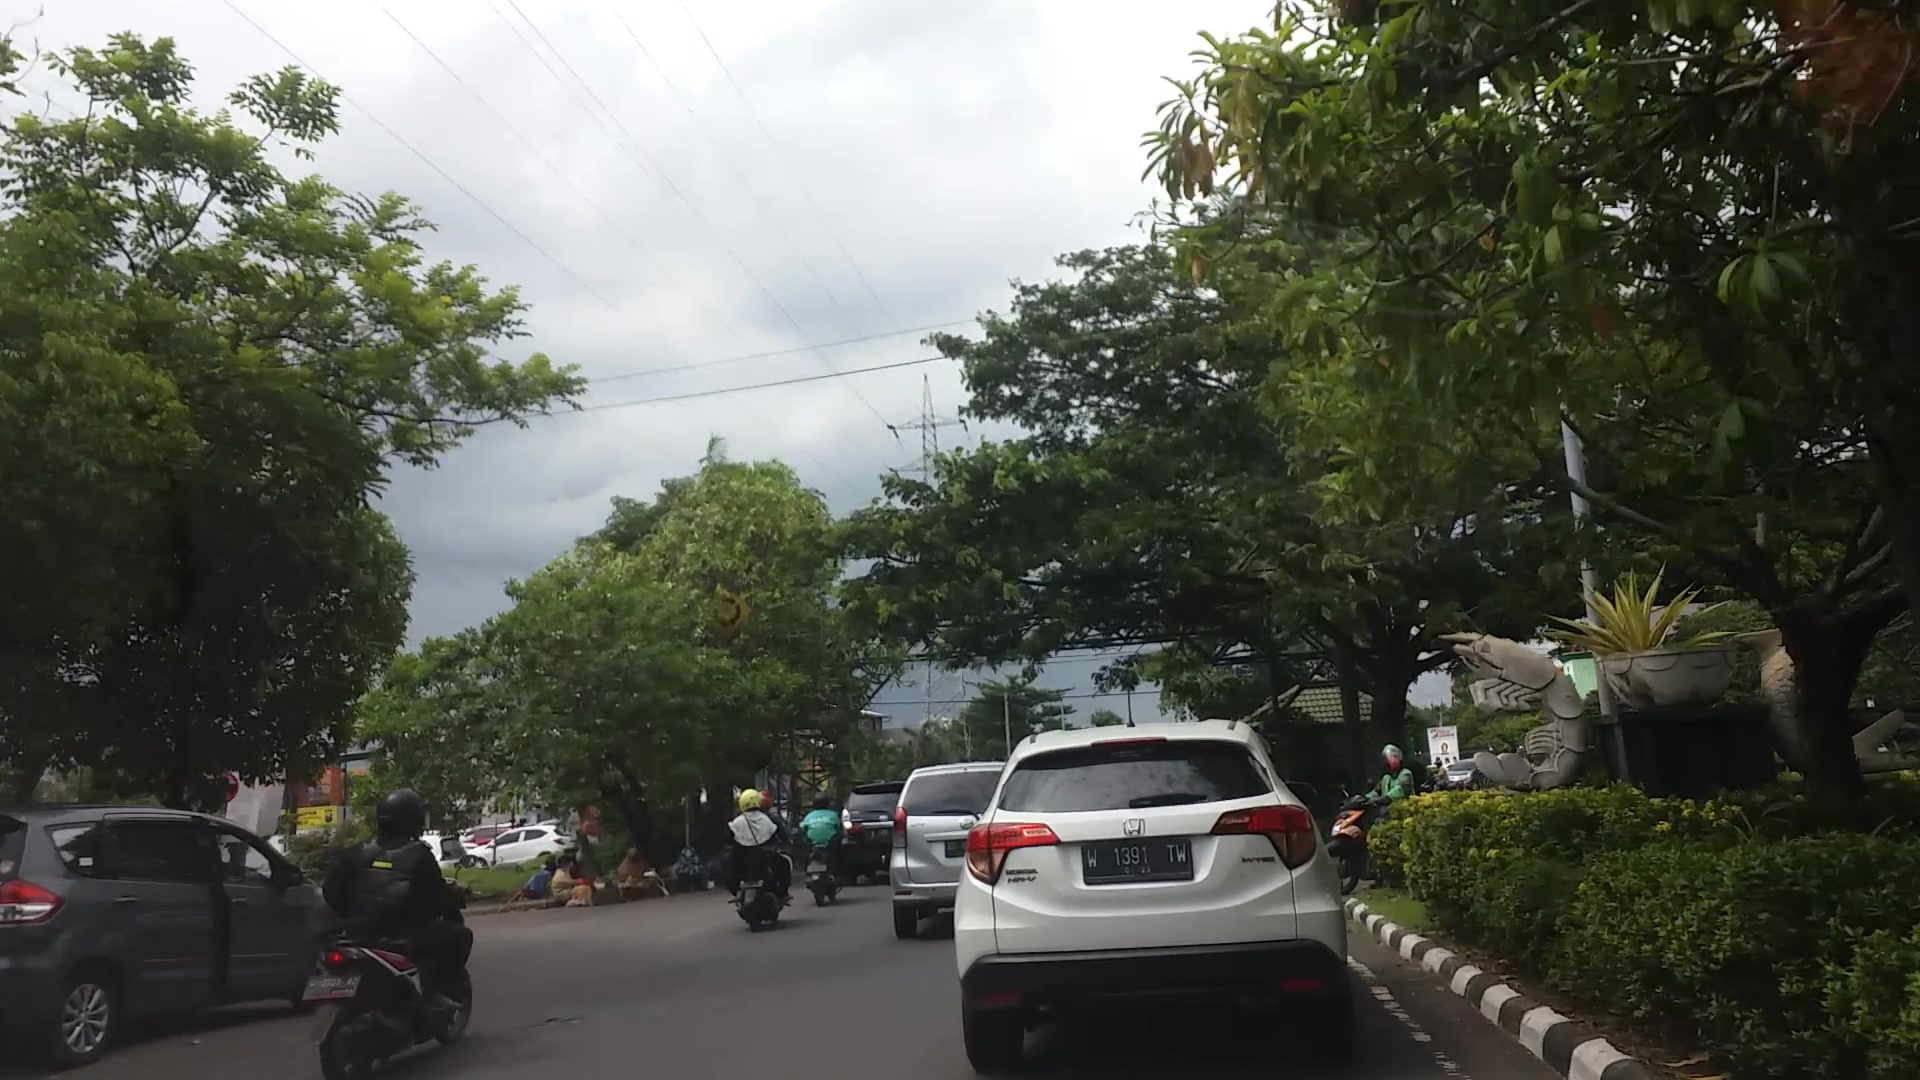plate_positive: (1081, 840, 1193, 880)
